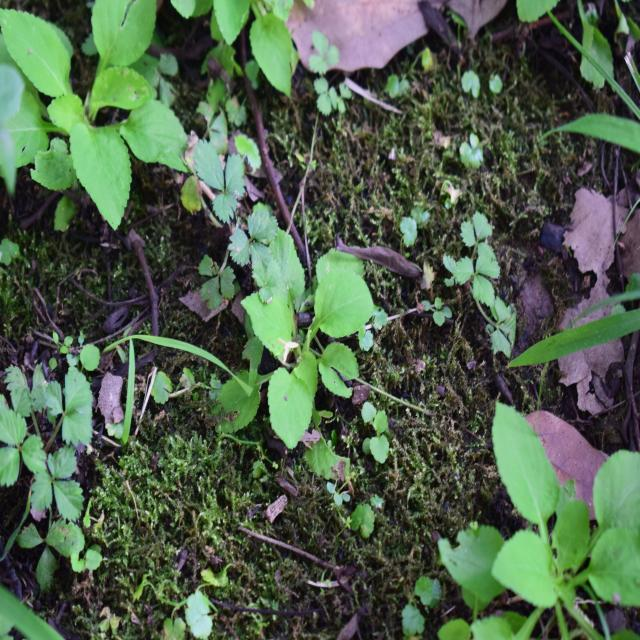Viola: (0, 6, 210, 232), (240, 258, 398, 432)
